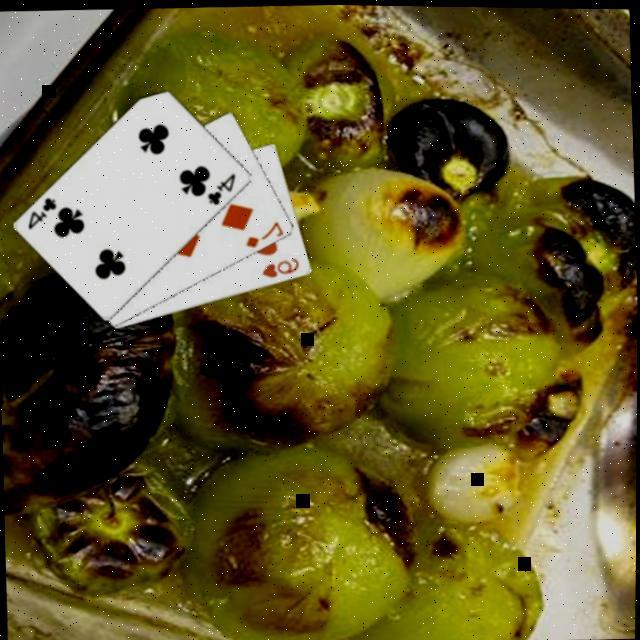4C: (24, 194, 61, 233), (205, 170, 241, 209)
6H: (259, 255, 303, 283)
7D: (243, 219, 287, 252)
